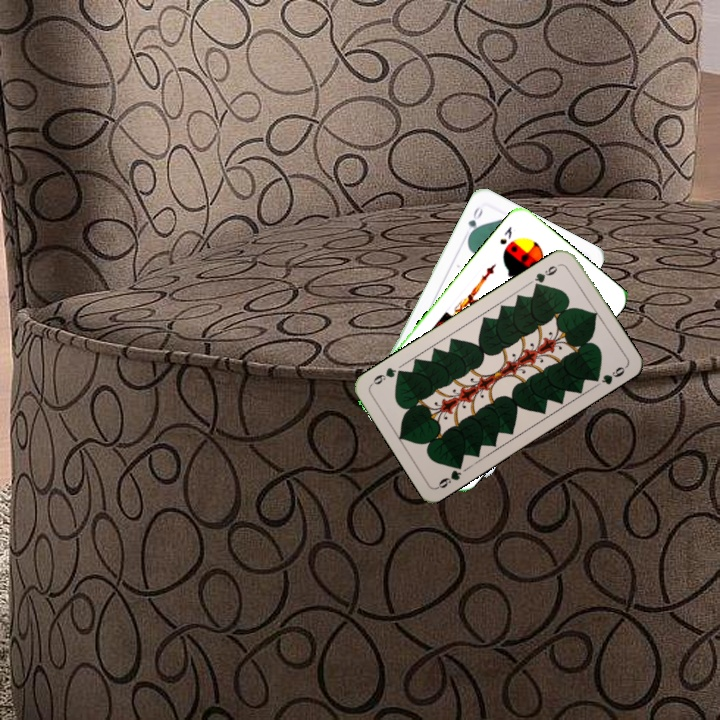G9: (433, 458, 465, 491), (530, 260, 563, 291)
GO: (464, 203, 485, 241)
SK: (496, 222, 515, 247)
